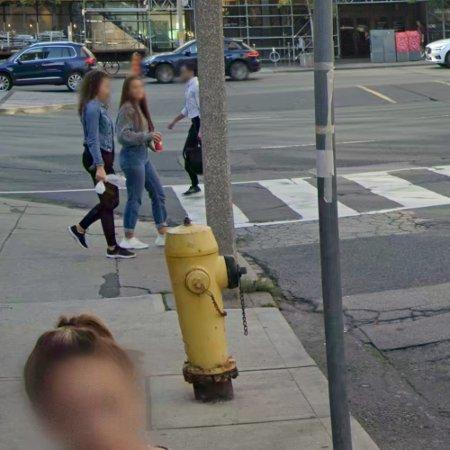a fire hydrant: (166, 225, 246, 402)
